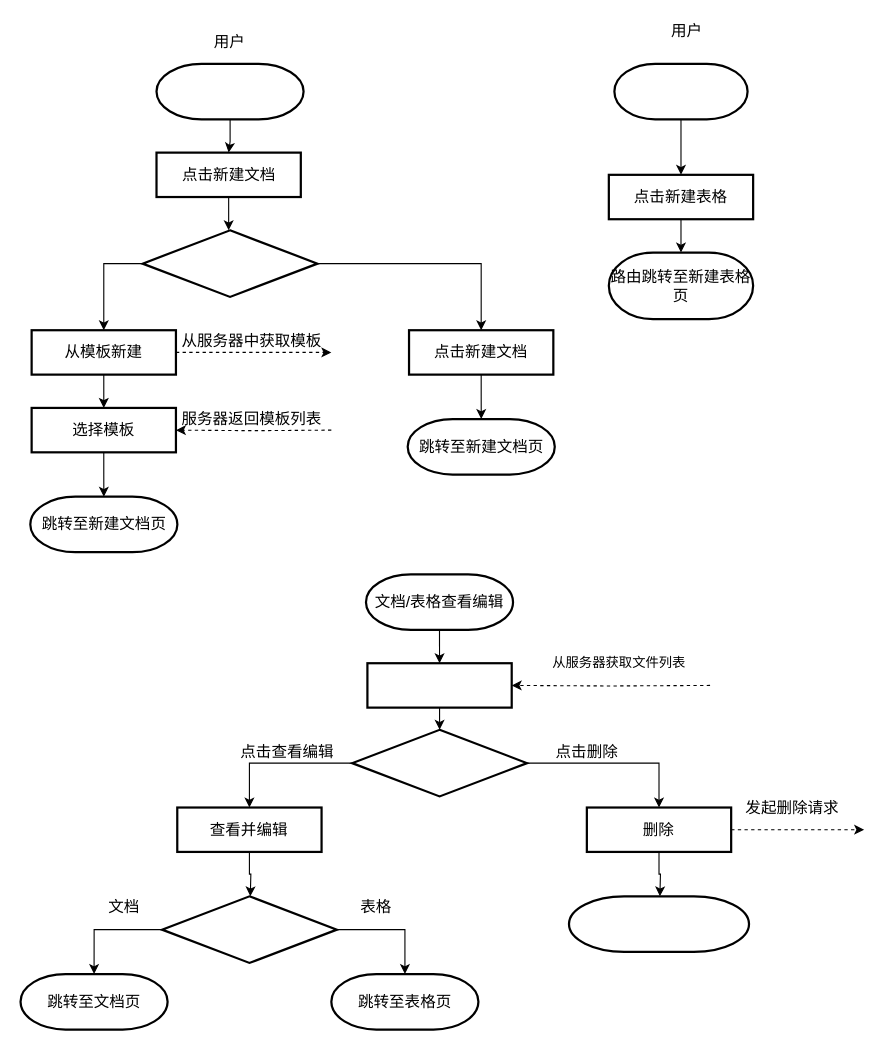
Image size: 892x1049. Some labels were removed from this diagram. Here are the shapes that lost their labels. From the top down, the centre of each, then its label:
point (229, 91): 新建文档
point (680, 91): 新建表格
point (229, 263): 是否从模板创建
point (439, 685): 列表获取渲染
point (439, 762): 用户点击操作
point (248, 929): 判断文件类型
point (658, 923): 重新获取文件列表
